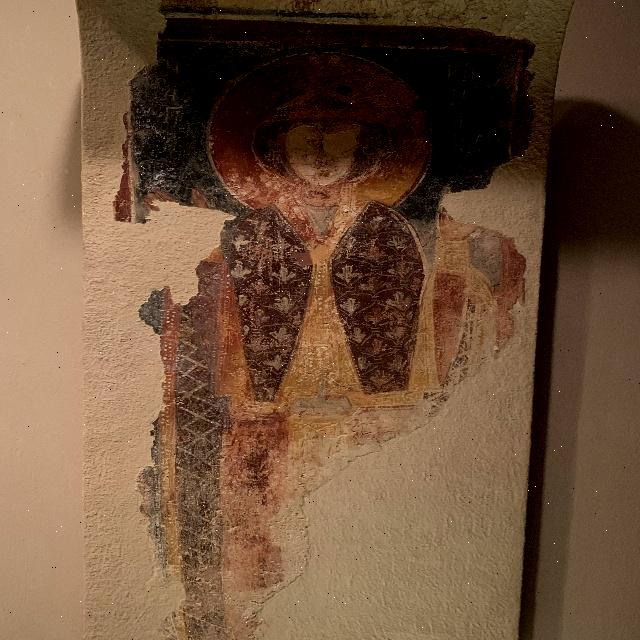aura: (208, 47, 431, 213)
saint: (134, 20, 498, 640)
